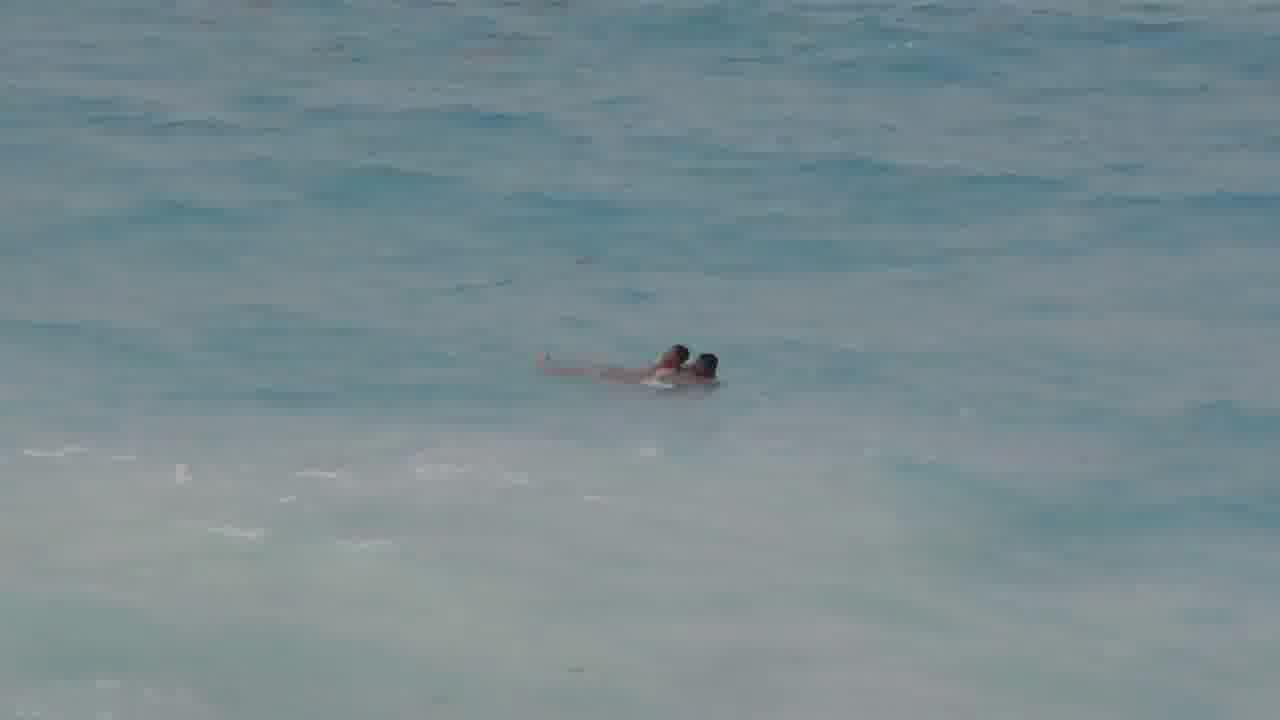swimmer: (648, 333, 690, 387), (698, 325, 729, 397)
